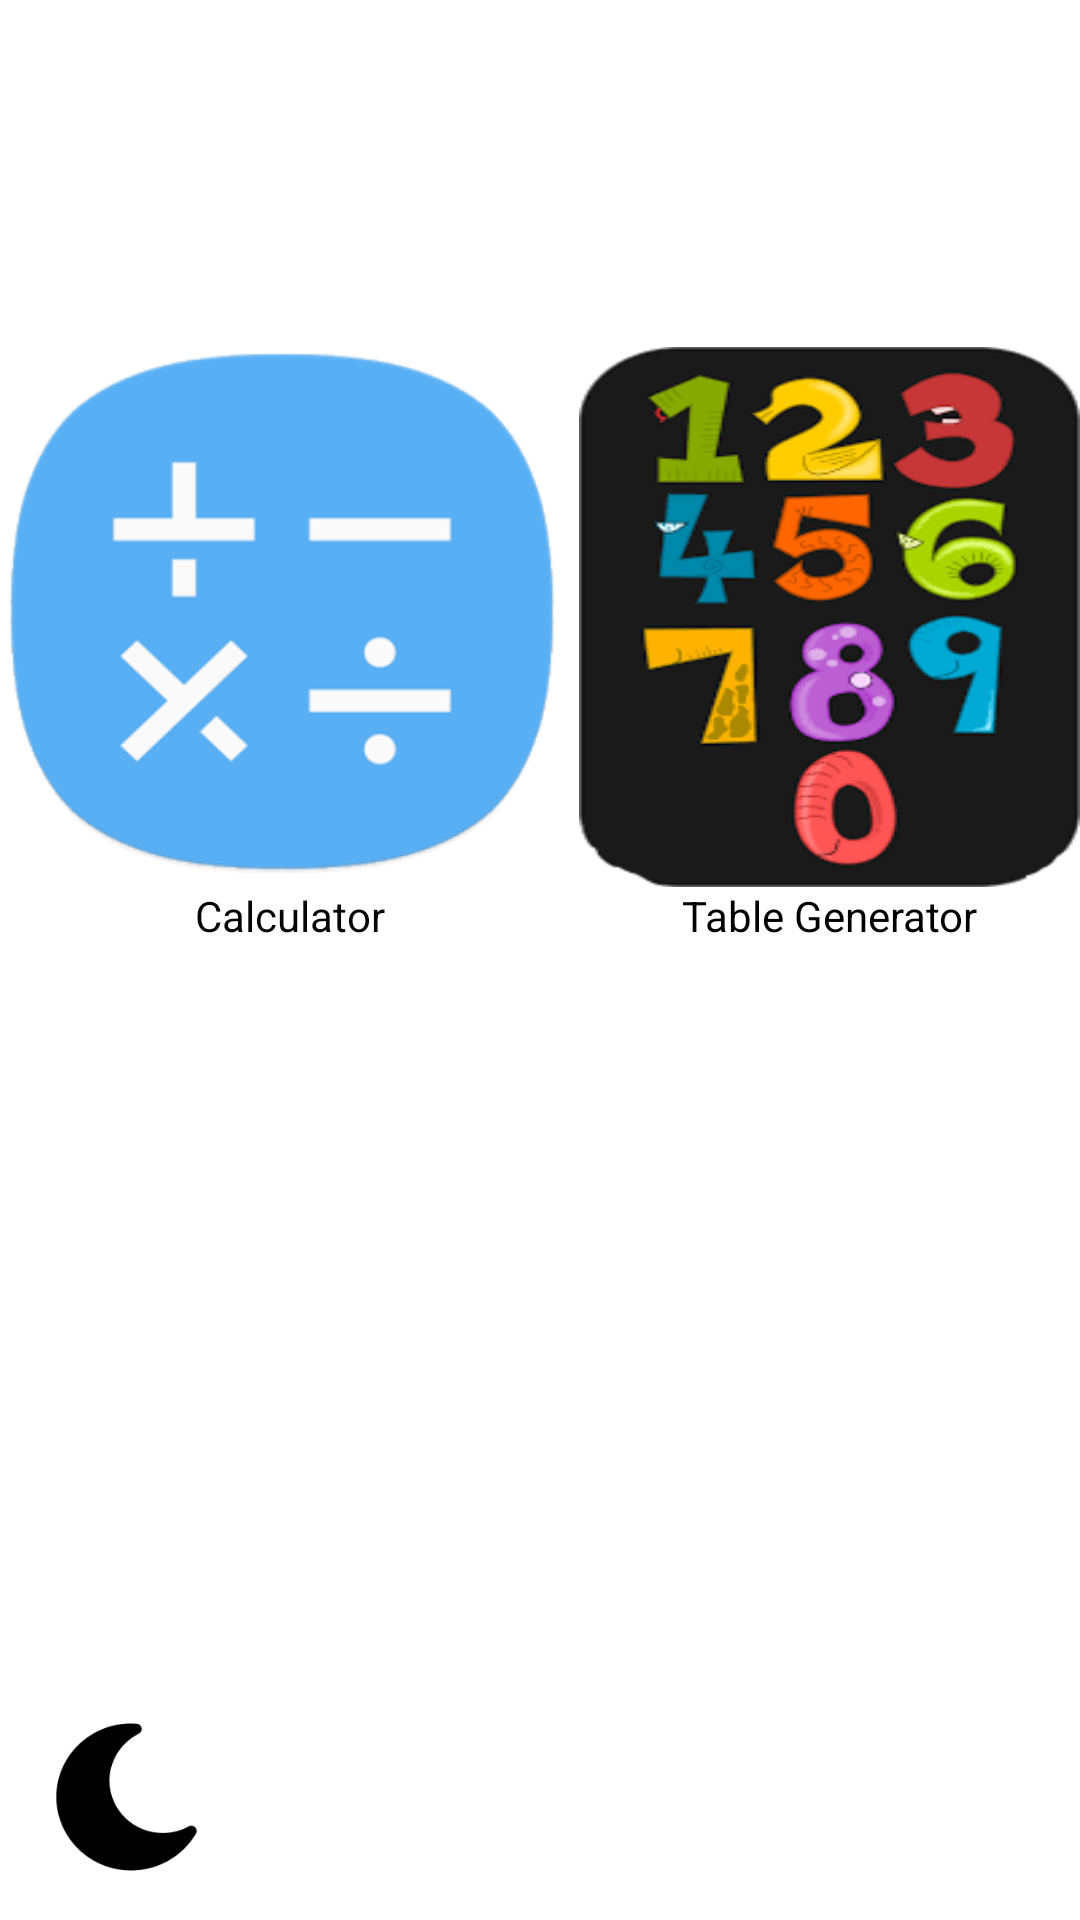

Icon bounding boxes for this 1080 × 1920 phone screenshot, format (x1, y1, x2, y2):
night: (56, 1723, 197, 1871)
